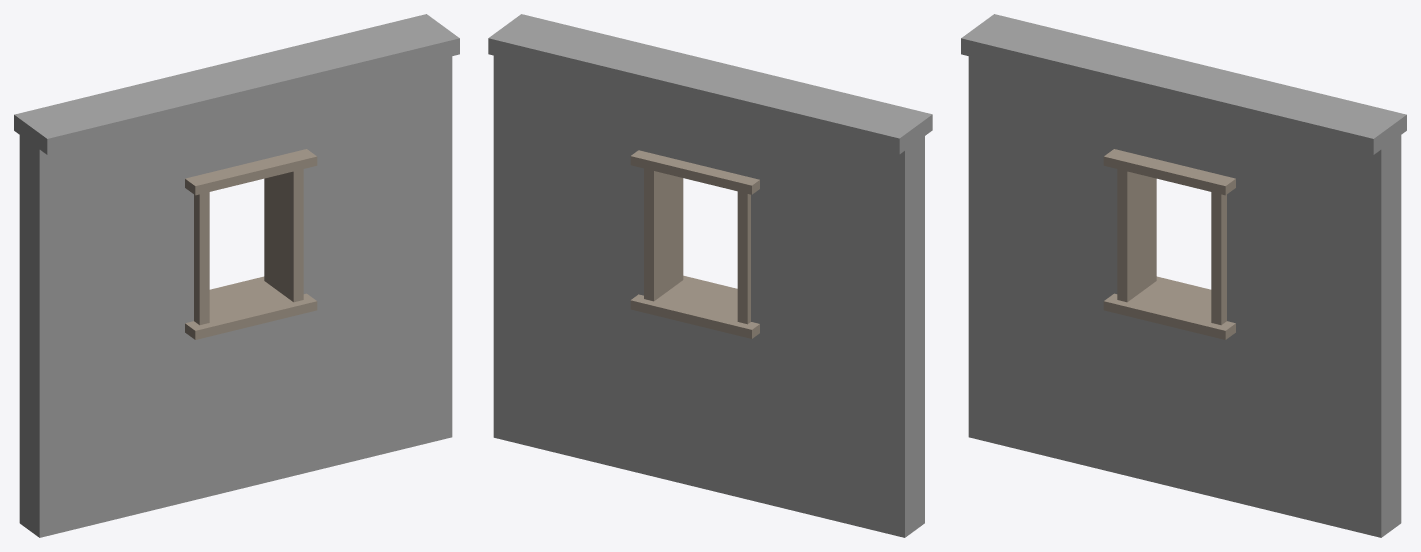
Rendered from ParedVentana.fbx.
3 views of the same model, side by side, from view 1: azimuth 30°, elevation 25°; view 2: azimuth 150°, elevation 25°; view 3: azimuth 330°, elevation 25° (orthographic).
Visible parts, largest first — view 1: polySurface663, polySurface815; view 2: polySurface663, polySurface815; view 3: polySurface663, polySurface815.
Part boxes in pixels (box(x1,y1,x2,y2)): polySurface663: box(14, 14, 459, 537); polySurface815: box(185, 149, 317, 339); polySurface663: box(488, 14, 932, 537); polySurface815: box(630, 150, 759, 338); polySurface663: box(961, 14, 1406, 537); polySurface815: box(1103, 149, 1235, 339).
Bounding box in the file's own units: 2 × 1.87 × 0.3241.
